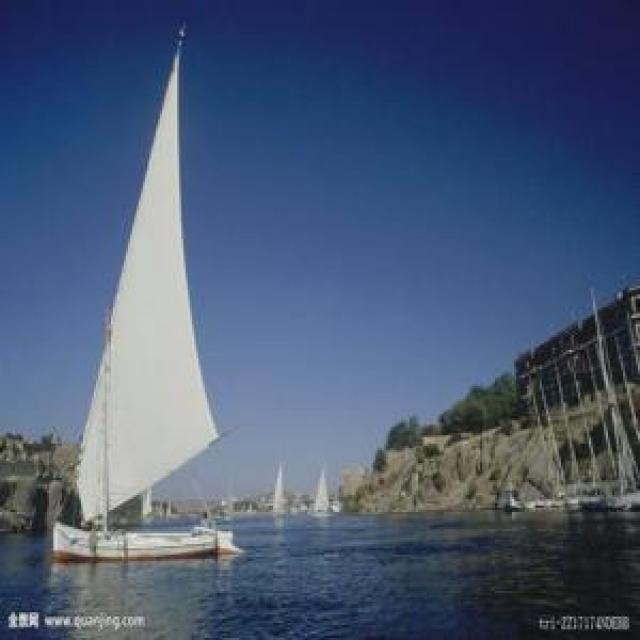sailboat: (46, 18, 224, 558), (263, 464, 294, 513), (307, 458, 332, 518)
